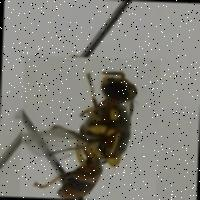Oriental-fruit-fly: (18, 55, 159, 200)
